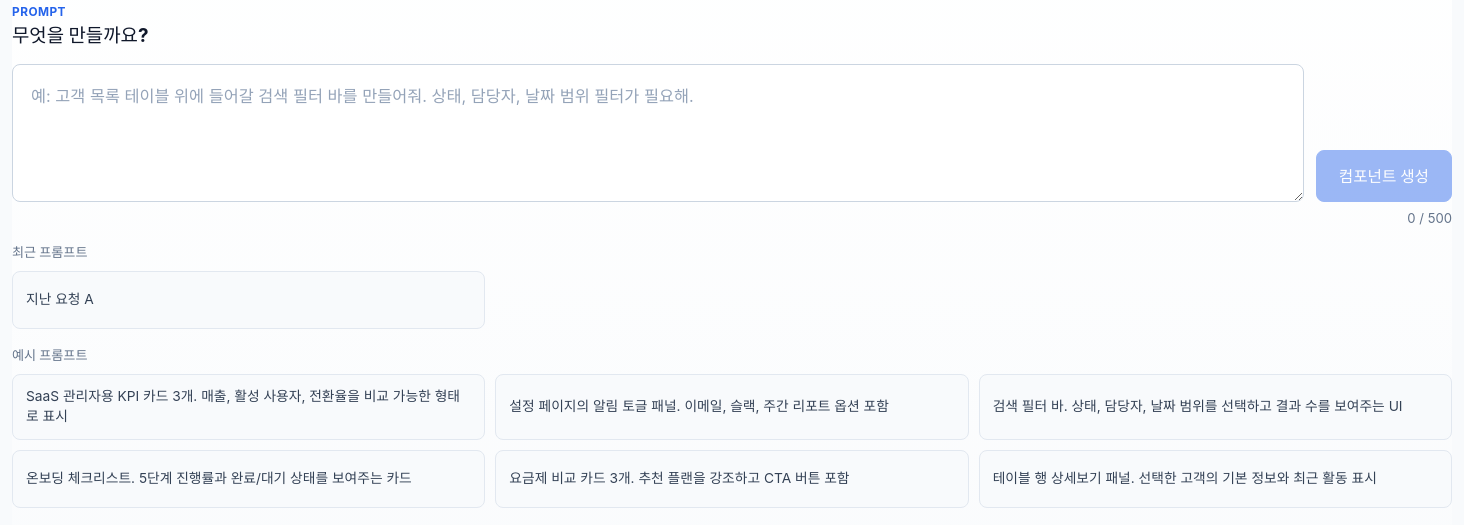
Scenario: PromptInput › 최근 프롬프트(히스토리) › history 항목을 클릭하면 입력창에 채워진다
The width and height of the screenshot is (1464, 525).
Click the button "지난 요청 A". click: click(60, 299)
box: [12,271,485,329]
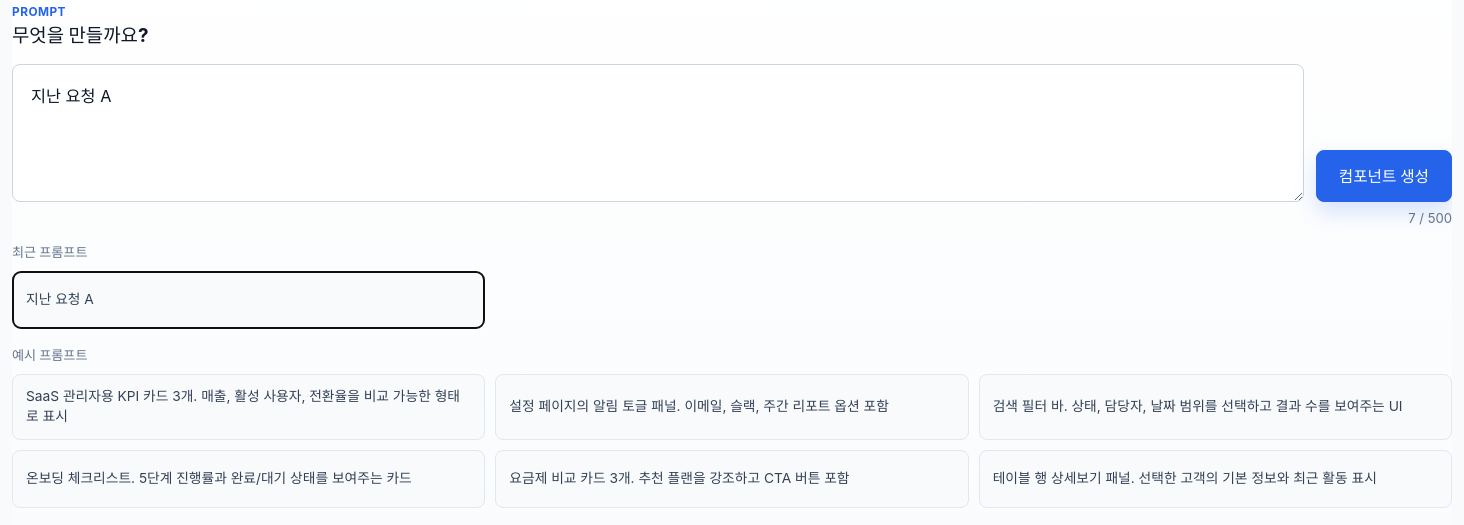
Check: the text box holds "지난 요청 A", box [12,64,1304,202]
